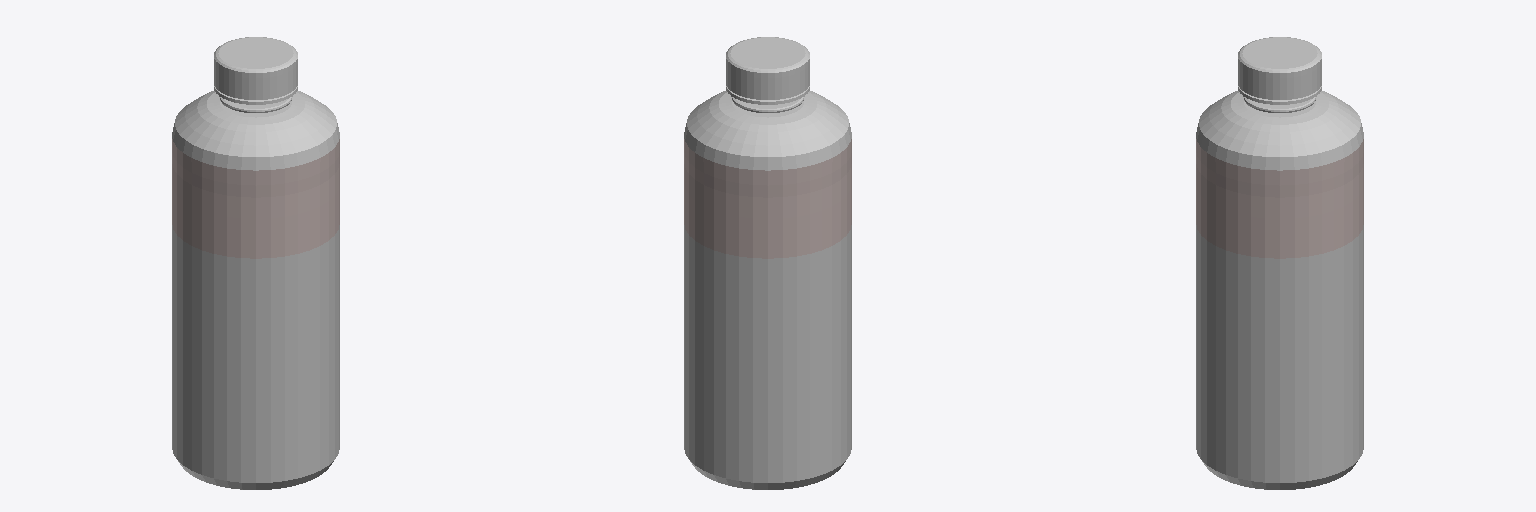
File: bottle500.obj
3 views of the same model, side by side, from view 1: azimuth 30°, elevation 25°; view 2: azimuth 150°, elevation 25°; view 3: azimuth 270°, elevation 25° (orthographic).
Visible parts, largest first — view 1: pet500; view 2: pet500; view 3: pet500.
Boxes of the visible parts, x1=… form: pet500: x1=172, y1=37, x2=339, y2=489; pet500: x1=684, y1=37, x2=851, y2=489; pet500: x1=1196, y1=37, x2=1363, y2=489.
Bounding box in the file's own units: 46.44 × 123 × 46.44.